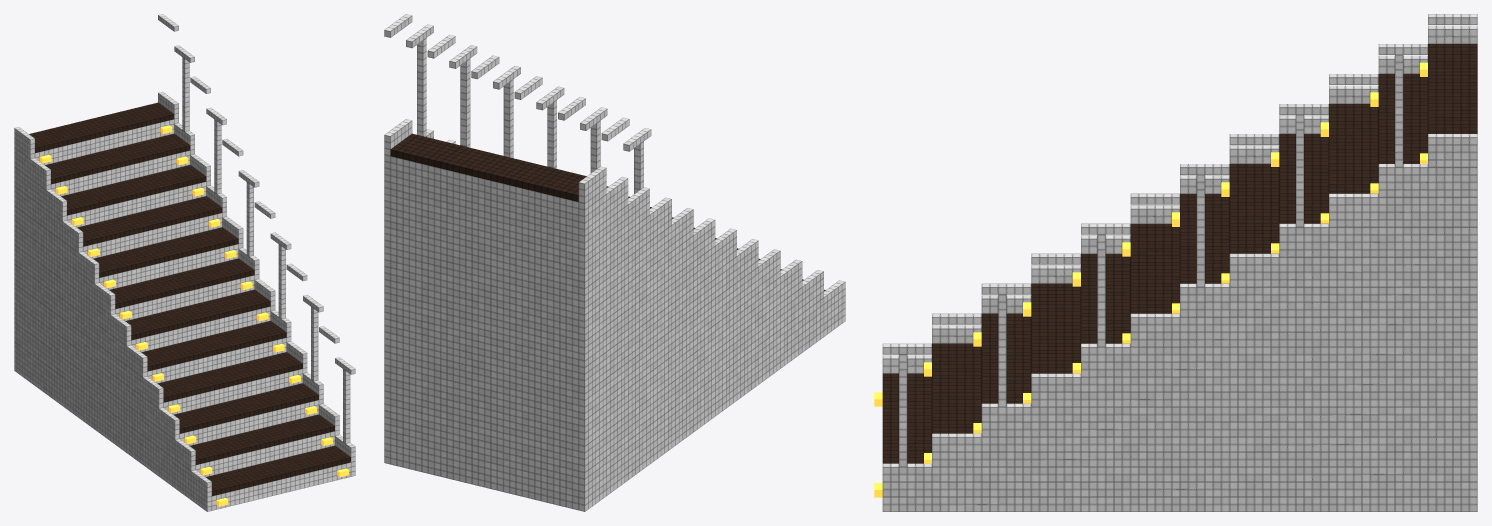
Rendered from stair_run.glb.
3 renders of one model, left to right at view 1: azimuth 30°, elevation 25°; view 2: azimuth 150°, elevation 25°; view 3: azimuth 270°, elevation 25°, orthographic. The views are drawn at different scales.
Visible parts, largest first — view 1: stair_run; view 2: stair_run; view 3: stair_run.
Part boxes in pixels (box(x1,y1,x2,y2)): stair_run: box(14, 14, 355, 511); stair_run: box(384, 14, 845, 511); stair_run: box(874, 14, 1477, 511).
Bounding box in the file's own units: 1.6 × 3.3 × 3.65.
4 materials, 3 textured.
